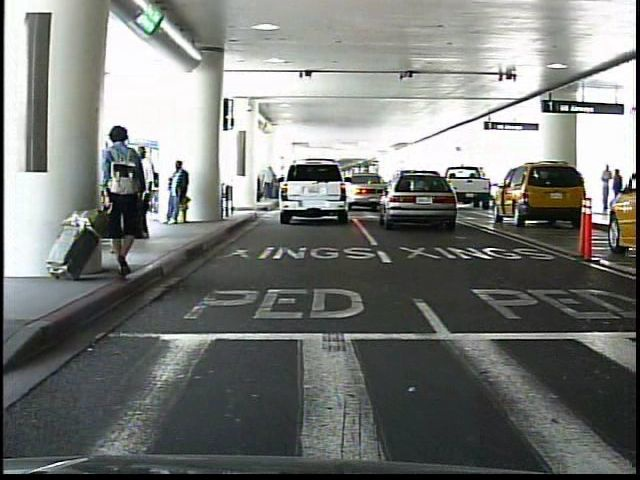person: (102, 125, 152, 282), (130, 143, 157, 239), (167, 158, 192, 226), (597, 164, 612, 213), (609, 166, 625, 211)
